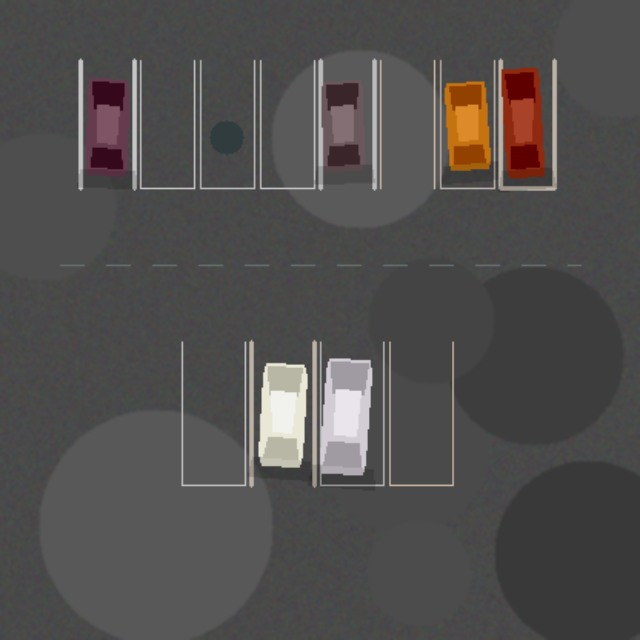space-empty: (182, 342, 245, 485), (389, 342, 452, 485), (140, 60, 194, 188), (200, 60, 254, 188), (260, 60, 314, 188), (380, 60, 434, 188)
space-occupied: (251, 342, 314, 485), (320, 342, 383, 485), (80, 60, 134, 188), (320, 60, 374, 188), (440, 60, 494, 188), (500, 60, 554, 188)
